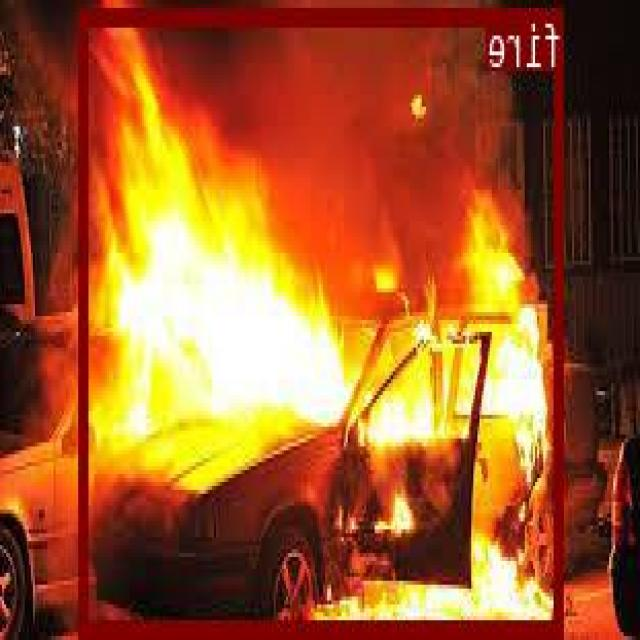fire: (82, 7, 565, 632)
